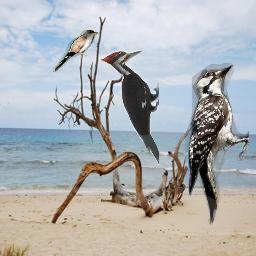Cuckoo: (53, 30, 99, 72)
Woodpecker: (183, 61, 249, 227), (99, 50, 159, 167)
